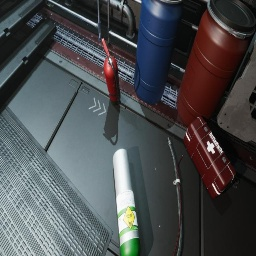0: (112, 148, 140, 256)
FireExtinguisher ]: (102, 38, 121, 105)
FirstAidBox ,: (183, 116, 236, 199)
